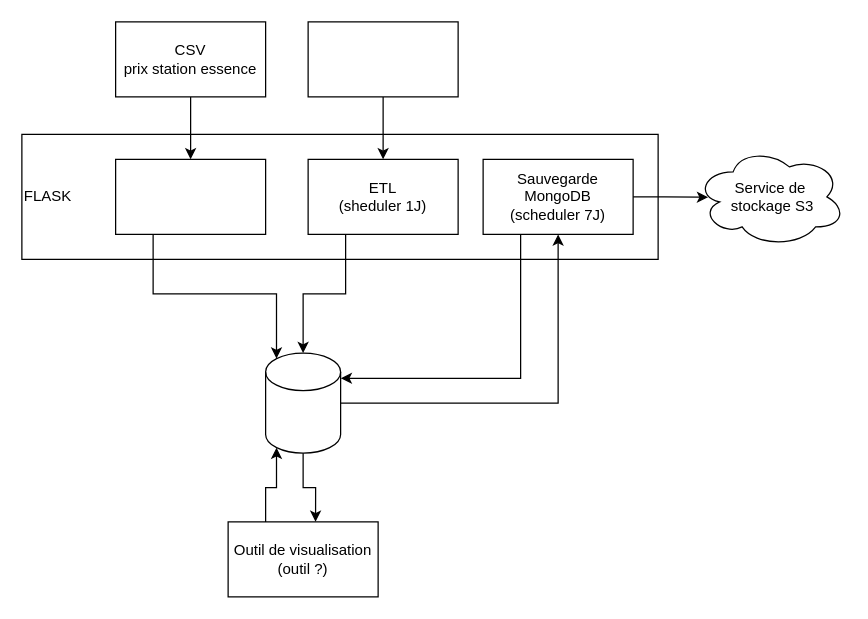
Some shapes in this 868 by 619 pixel diagram are drawn without their labels. Here are the shapes that lost their labels. From the top down, the centre of each, then its label:
the point at 382,59: Librairie cours de bourse BRENT
the point at 190,196: ETL (scheduler 1J)
the point at 302,402: MongoDB Cloud
